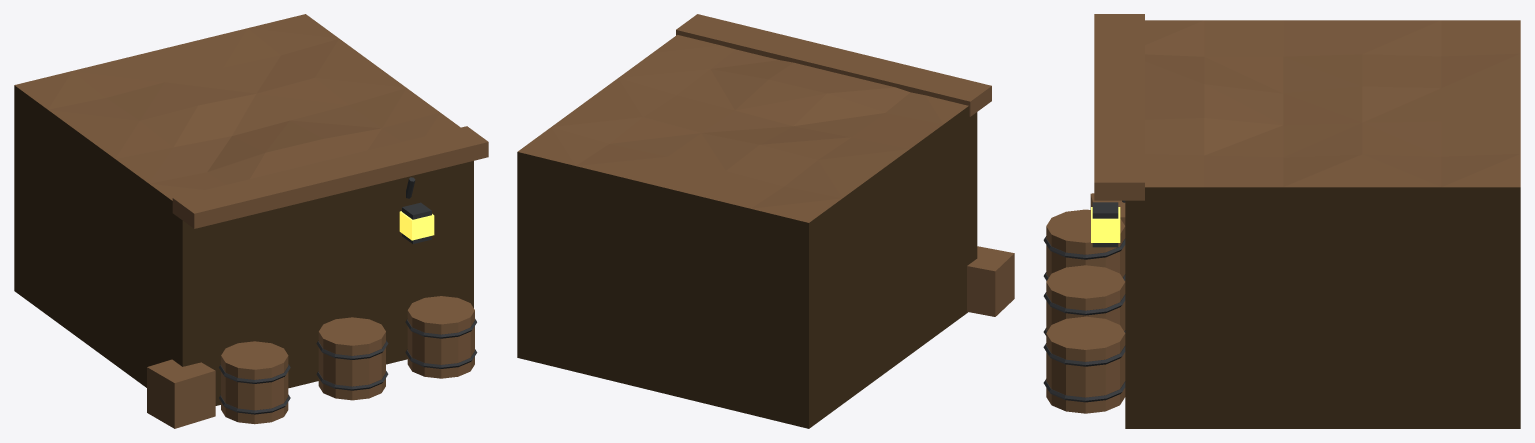
Rendered from SM_Terrain_Tavern_02_Cliff.glb.
The picture shows the model from 3 angles, left to right: view 1: azimuth 30°, elevation 25°; view 2: azimuth 150°, elevation 25°; view 3: azimuth 270°, elevation 25°; orthographic projection. The views are drawn at different scales.
Parts seen in each view (by area): view 1: SM_Terrain_Tavern_02_Cliff_Wall, SM_Terrain_Tavern_02_Cliff_Lip, SM_Terrain_Tavern_02_Cliff_Barrel1, SM_Terrain_Tavern_02_Cliff_Barrel0, SM_Terrain_Tavern_02_Cliff_Barrel2, SM_Terrain_Tavern_02_Cliff_Crate, SM_Terrain_Tavern_02_Cliff_LanternGlass, SM_Terrain_Tavern_02_Cliff_LanternFrame; view 2: SM_Terrain_Tavern_02_Cliff_Wall, SM_Terrain_Tavern_02_Cliff_Lip, SM_Terrain_Tavern_02_Cliff_Crate; view 3: SM_Terrain_Tavern_02_Cliff_Wall, SM_Terrain_Tavern_02_Cliff_Lip, SM_Terrain_Tavern_02_Cliff_Barrel2, SM_Terrain_Tavern_02_Cliff_Barrel1, SM_Terrain_Tavern_02_Cliff_Barrel0, SM_Terrain_Tavern_02_Cliff_LanternGlass, SM_Terrain_Tavern_02_Cliff_LanternFrame, SM_Terrain_Tavern_02_Cliff_Hoop1B, SM_Terrain_Tavern_02_Cliff_Hoop2A, SM_Terrain_Tavern_02_Cliff_Hoop0B, SM_Terrain_Tavern_02_Cliff_Hoop2B.
Boxes of the visible parts, left/top/right/bottom form: SM_Terrain_Tavern_02_Cliff_Wall: left=14, top=14, right=473, bottom=405; SM_Terrain_Tavern_02_Cliff_Lip: left=172, top=126, right=488, bottom=228; SM_Terrain_Tavern_02_Cliff_Barrel1: left=318, top=317, right=385, bottom=400; SM_Terrain_Tavern_02_Cliff_Barrel0: left=221, top=341, right=288, bottom=424; SM_Terrain_Tavern_02_Cliff_Barrel2: left=407, top=296, right=474, bottom=378; SM_Terrain_Tavern_02_Cliff_Crate: left=147, top=359, right=215, bottom=428; SM_Terrain_Tavern_02_Cliff_LanternGlass: left=399, top=211, right=434, bottom=240; SM_Terrain_Tavern_02_Cliff_LanternFrame: left=402, top=202, right=431, bottom=243; SM_Terrain_Tavern_02_Cliff_Wall: left=517, top=35, right=977, bottom=428; SM_Terrain_Tavern_02_Cliff_Lip: left=676, top=14, right=991, bottom=116; SM_Terrain_Tavern_02_Cliff_Crate: left=967, top=246, right=1014, bottom=316; SM_Terrain_Tavern_02_Cliff_Wall: left=1125, top=20, right=1520, bottom=428; SM_Terrain_Tavern_02_Cliff_Lip: left=1094, top=14, right=1144, bottom=200; SM_Terrain_Tavern_02_Cliff_Barrel2: left=1046, top=316, right=1125, bottom=413; SM_Terrain_Tavern_02_Cliff_Barrel1: left=1046, top=265, right=1125, bottom=331; SM_Terrain_Tavern_02_Cliff_Barrel0: left=1046, top=209, right=1125, bottom=281; SM_Terrain_Tavern_02_Cliff_LanternGlass: left=1091, top=207, right=1120, bottom=242; SM_Terrain_Tavern_02_Cliff_LanternFrame: left=1092, top=202, right=1118, bottom=247; SM_Terrain_Tavern_02_Cliff_Hoop1B: left=1043, top=292, right=1125, bottom=315; SM_Terrain_Tavern_02_Cliff_Hoop2A: left=1043, top=379, right=1125, bottom=402; SM_Terrain_Tavern_02_Cliff_Hoop0B: left=1043, top=236, right=1125, bottom=259; SM_Terrain_Tavern_02_Cliff_Hoop2B: left=1043, top=343, right=1125, bottom=366.
Size of the model in its own units: 2.19 by 1.38 by 2.41.
